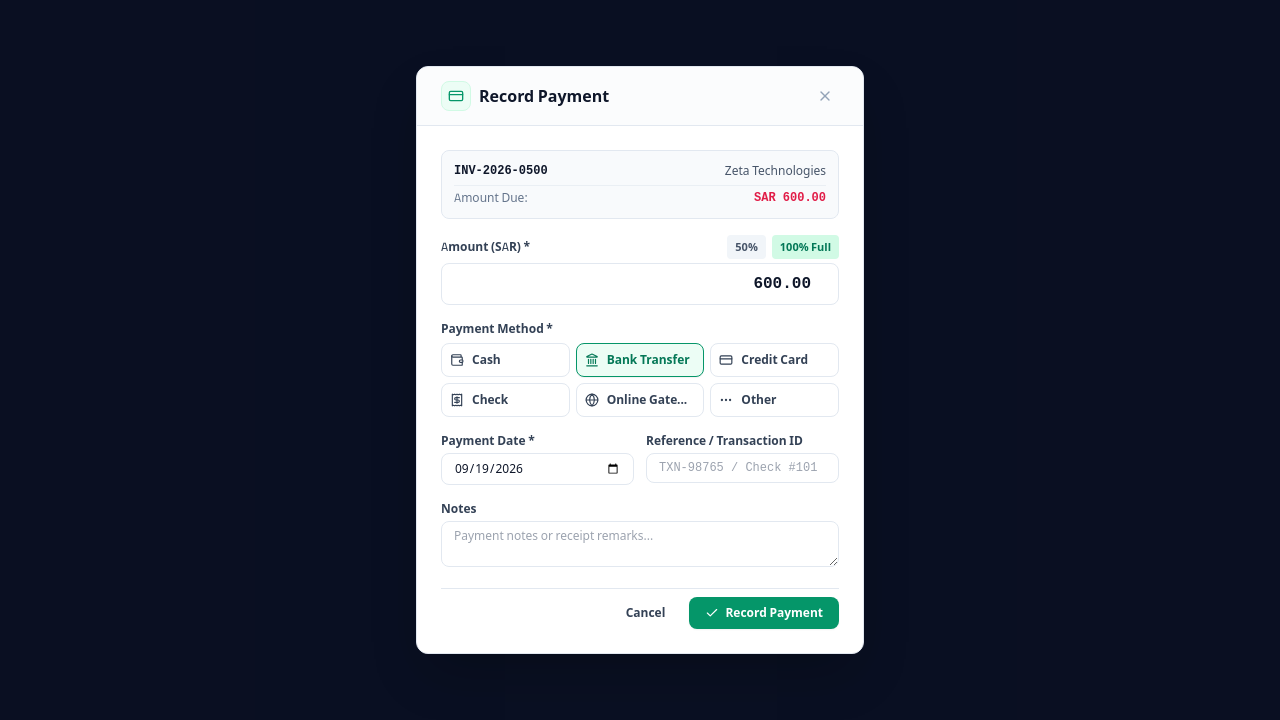
Test case: Integration Test: PaymentModal Component (AC5 & Overpayment Validation) › rejects overpayments when entered amount exceeds amountDue
Note: Attempt to pay 600.01 (exceeds 600.00 amountDue)
Replace the text in the number field with "600.01" at (640, 284), box [441,263,839,305]
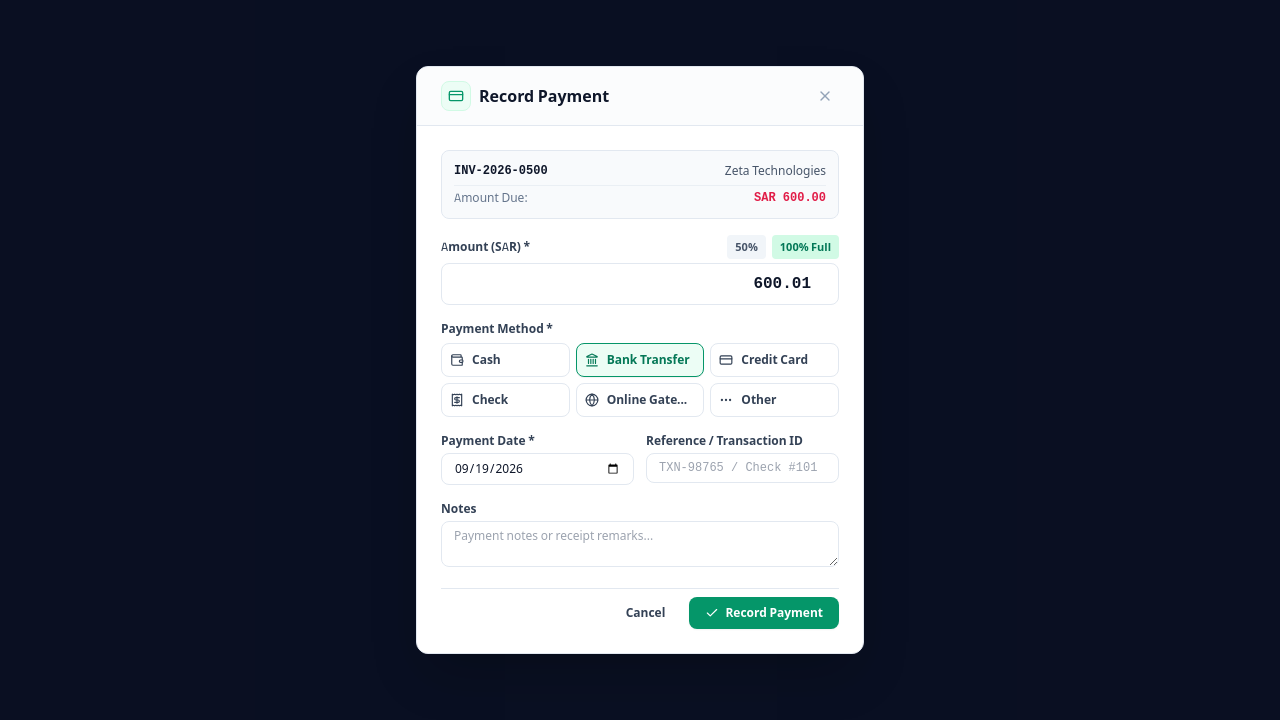
Click the button "Record Payment".
click(764, 613)  # box [689,597,839,629]
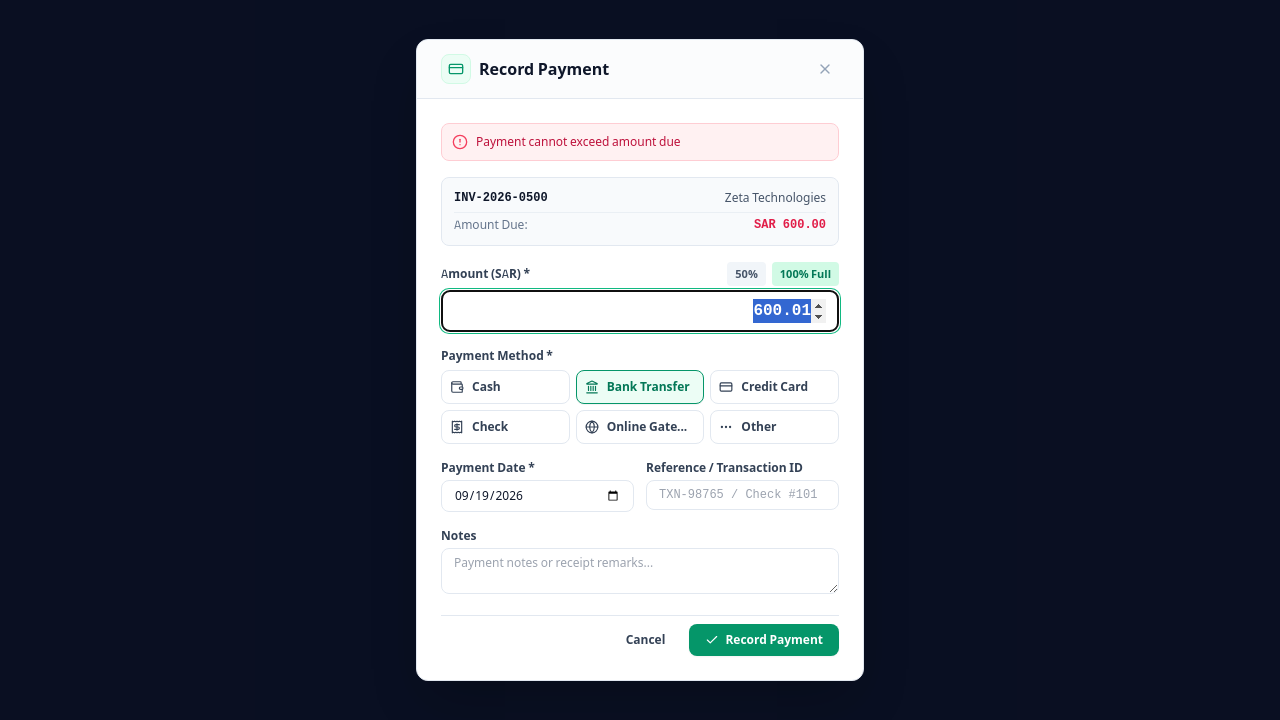
Expected: the text "Payment cannot exceed amount due" is shown, [476,134,681,150]
